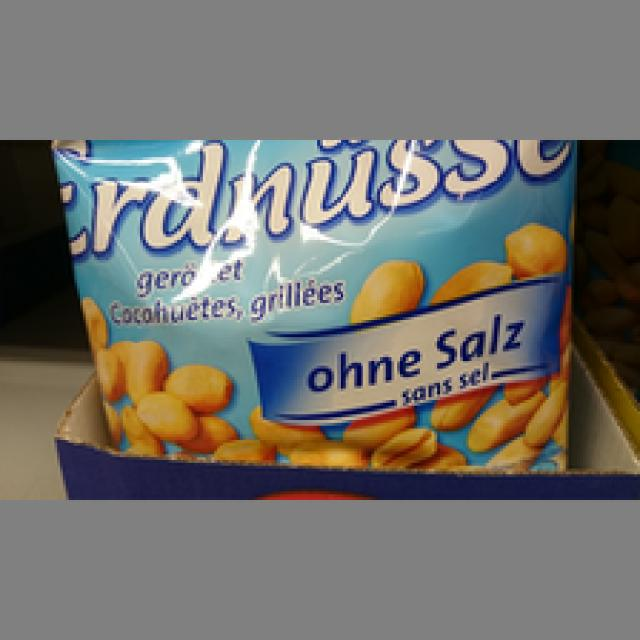groceries: (46, 137, 577, 469)
